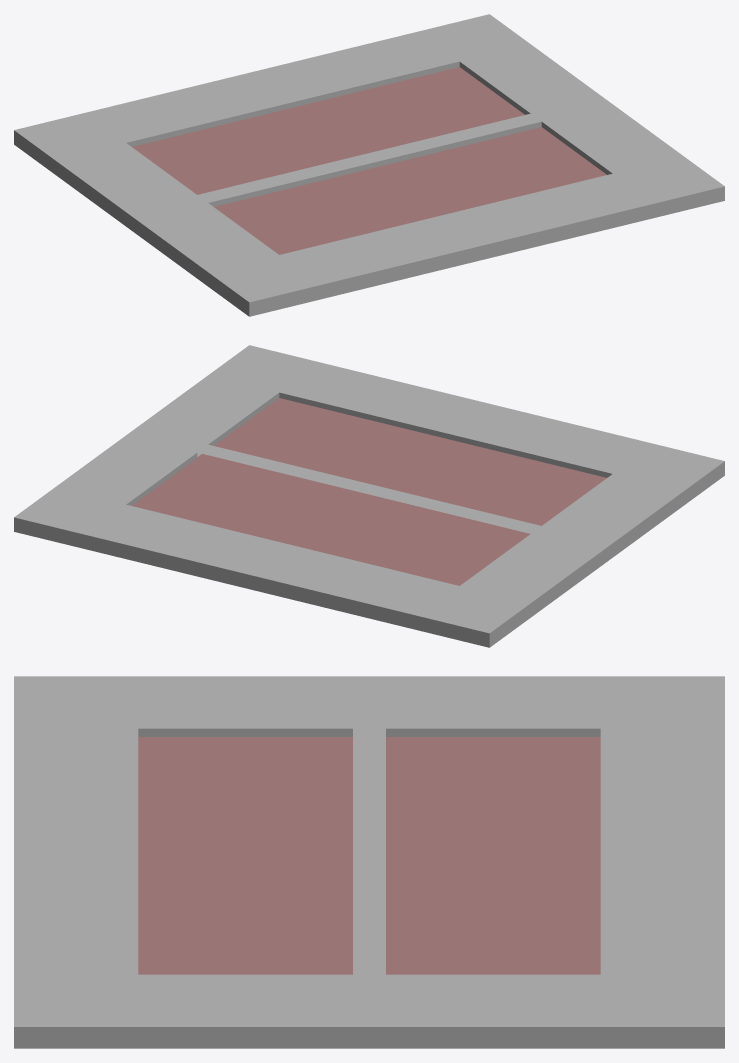
The model's file is O_buildings_MetalRoofFlat_Window1.fbx.
3 views of the same model, one above another, from view 1: azimuth 30°, elevation 25°; view 2: azimuth 150°, elevation 25°; view 3: azimuth 270°, elevation 25° (orthographic). The views are drawn at different scales.
Visible parts, largest first — view 1: pCube20; view 2: pCube20; view 3: pCube20.
Part boxes in pixels (left/top/right/bottom): pCube20: left=14, top=14, right=724, bottom=316; pCube20: left=14, top=345, right=724, bottom=647; pCube20: left=14, top=676, right=724, bottom=1048.
Size of the model in its own units: 7 by 0.2029 by 6.
